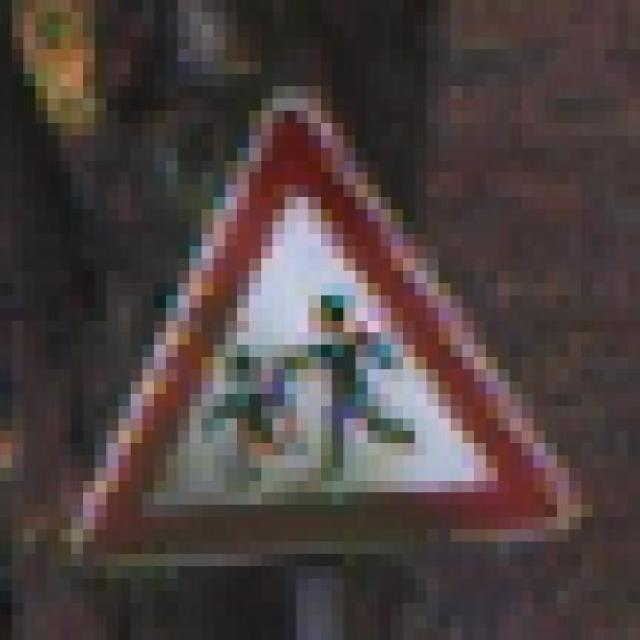Beware of children: (77, 84, 588, 576)
